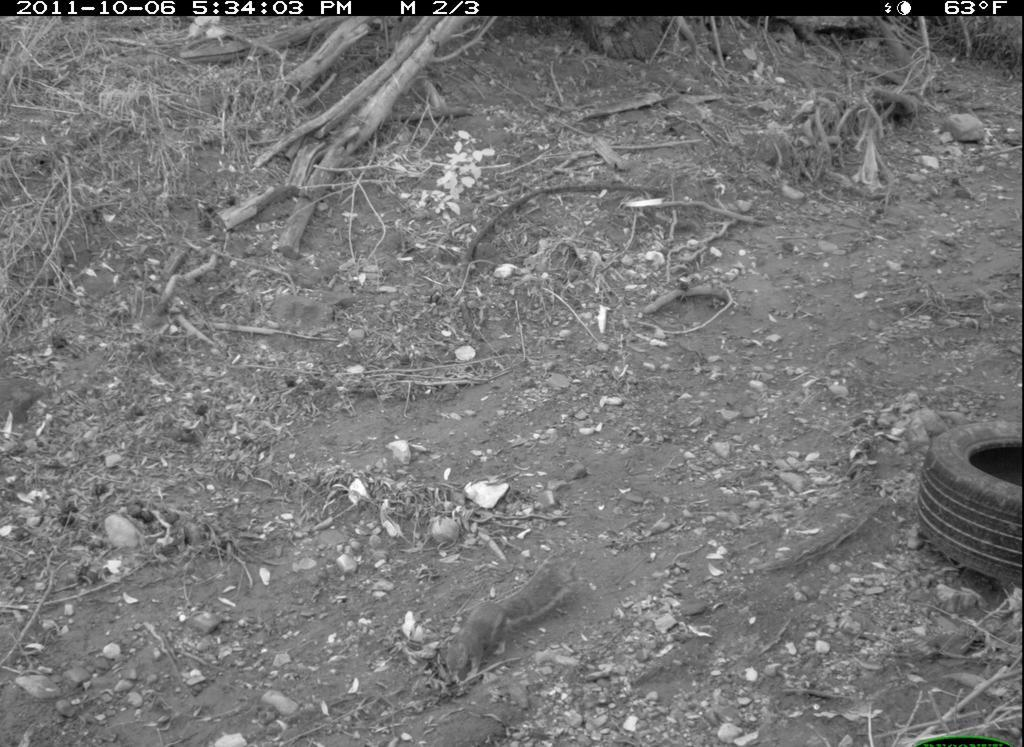squirrel: (419, 551, 583, 695)
